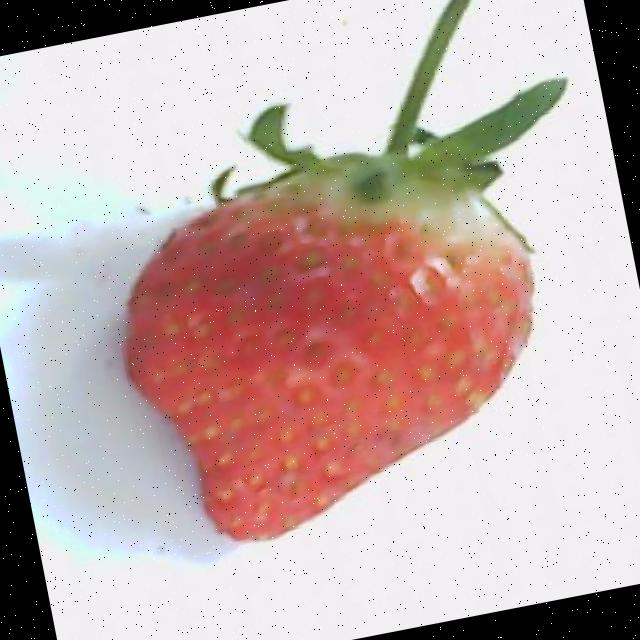strawberry: (126, 0, 566, 541)
